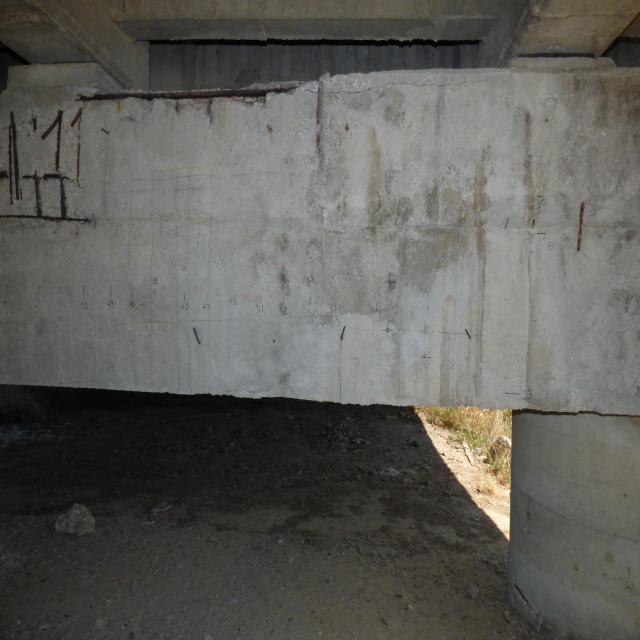corrosion: (0, 107, 107, 227), (64, 88, 285, 128), (572, 189, 593, 253), (191, 324, 204, 346), (338, 324, 346, 346)
